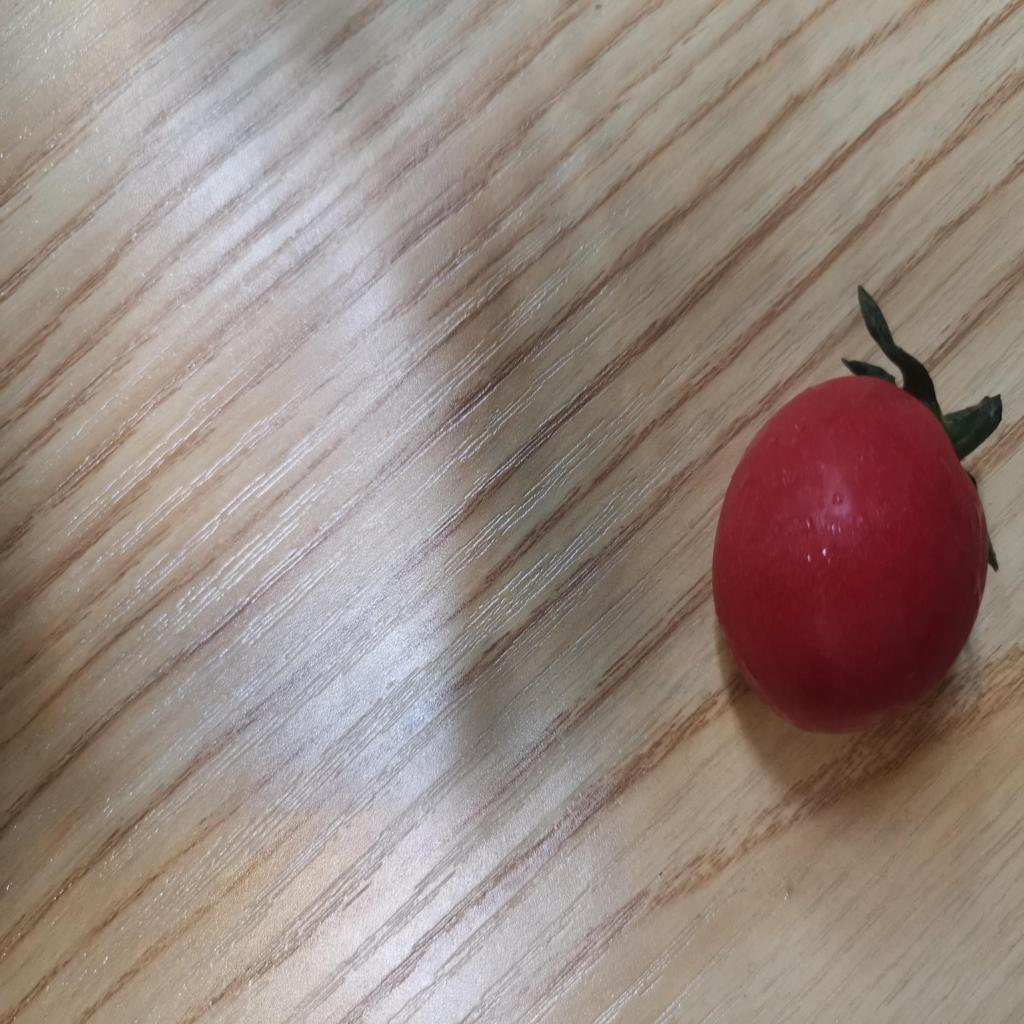tomato: (726, 362, 993, 729)
